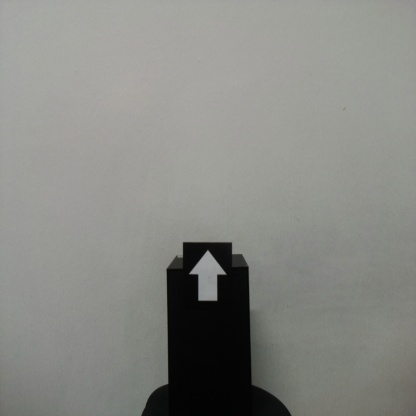id_1: (183, 242, 232, 312)
